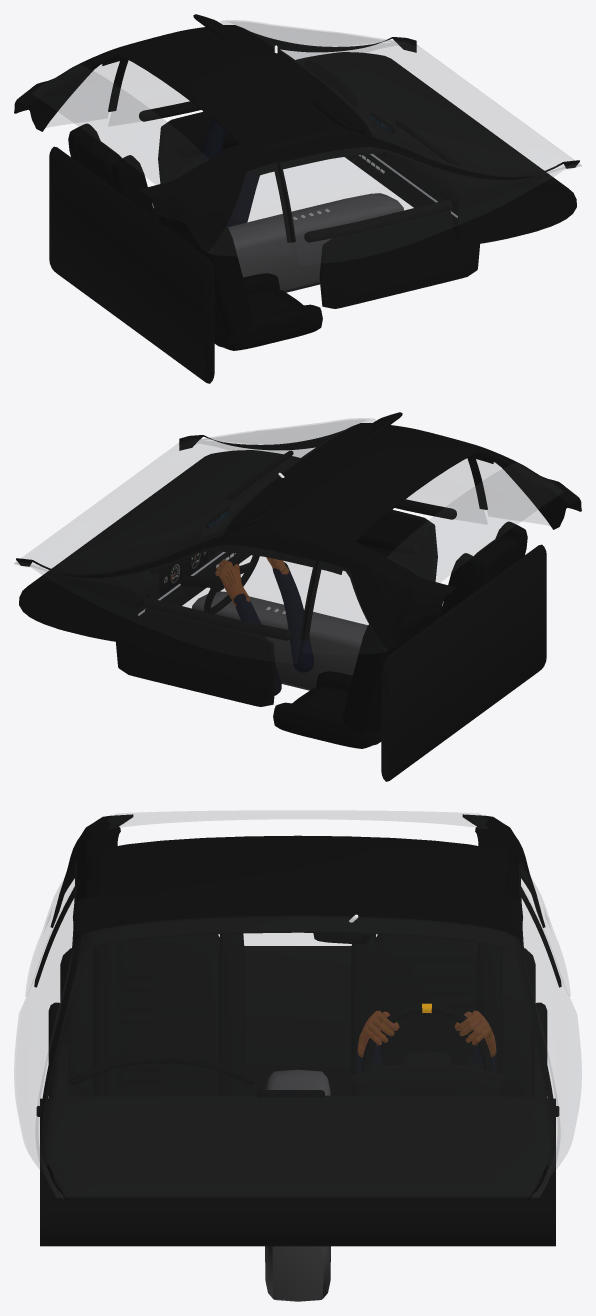
File: mz_monza_cockpit.glb
3 renders of one model, top to bottom at view 1: azimuth 30°, elevation 25°; view 2: azimuth 150°, elevation 25°; view 3: azimuth 270°, elevation 25°, orthographic. The views are drawn at different scales.
Visible parts, largest first — view 1: cockpit_shell, cabin_glass, window_R, window_L, hands; view 2: cockpit_shell, cabin_glass, window_L, hands, window_R, steering_wheel; view 3: cockpit_shell, cabin_glass, window_L, window_R, hands, steering_wheel.
Part boxes in pixels (box(x1,y1,x2,y2)): cockpit_shell: box(14, 14, 579, 383); cabin_glass: box(32, 20, 581, 255); window_R: box(280, 147, 563, 265); window_L: box(121, 61, 188, 108); hands: box(200, 119, 259, 226); cockpit_shell: box(16, 412, 581, 781); cabin_glass: box(14, 418, 563, 653); window_L: box(32, 545, 315, 663); hands: box(215, 555, 314, 695); window_R: box(407, 459, 474, 506); steering_wheel: box(204, 553, 259, 613); cockpit_shell: box(34, 814, 561, 1301); cabin_glass: box(25, 811, 570, 1197); window_L: box(520, 885, 581, 1198); window_R: box(14, 885, 75, 1198); hands: box(356, 1010, 497, 1073); steering_wheel: box(362, 1003, 491, 1071).
Size of the model in its own units: 2.07 by 1.09 by 1.67.
Materials: 5 (3 with a texture image).
